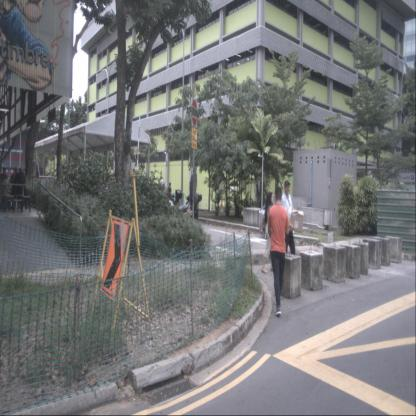human-pedestrian-adult: (267, 186, 289, 317), (279, 180, 304, 288), (260, 190, 282, 275), (12, 167, 29, 211), (0, 164, 9, 212)
vehicle-motorcycle: (162, 194, 193, 227), (164, 189, 182, 215), (185, 194, 202, 221)
